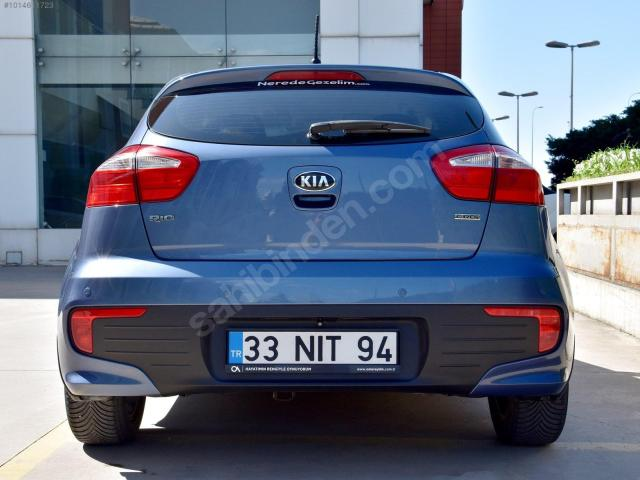plaka: (227, 330, 399, 371)
